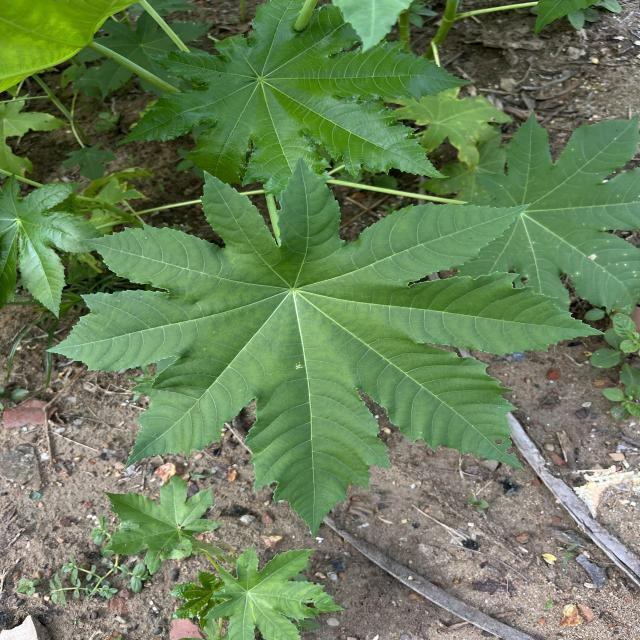Ricinus communis linn: (44, 150, 610, 545), (200, 539, 348, 640)
